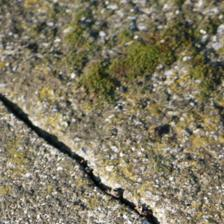Crack: (2, 47, 155, 175)
